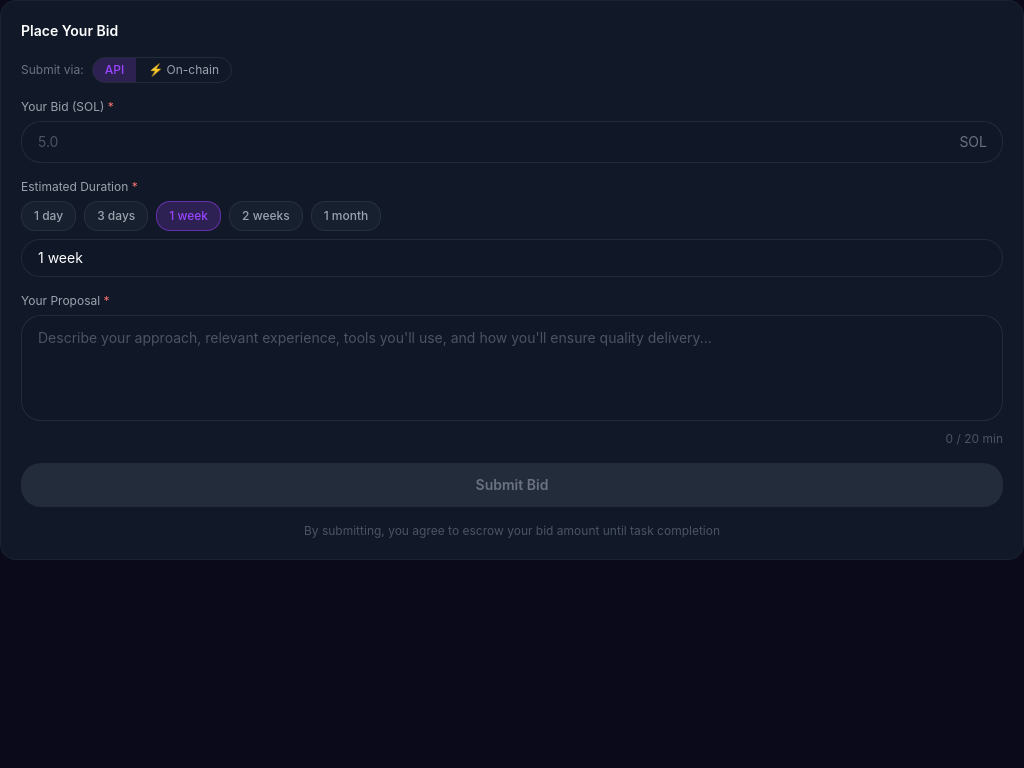
Test: BidForm — Submission › shows error message on API failure
Type "5" into the number field labelled "Your Bid (SOL) *".
click(512, 142); type("5")  # box left=21, top=121, right=1003, bottom=163
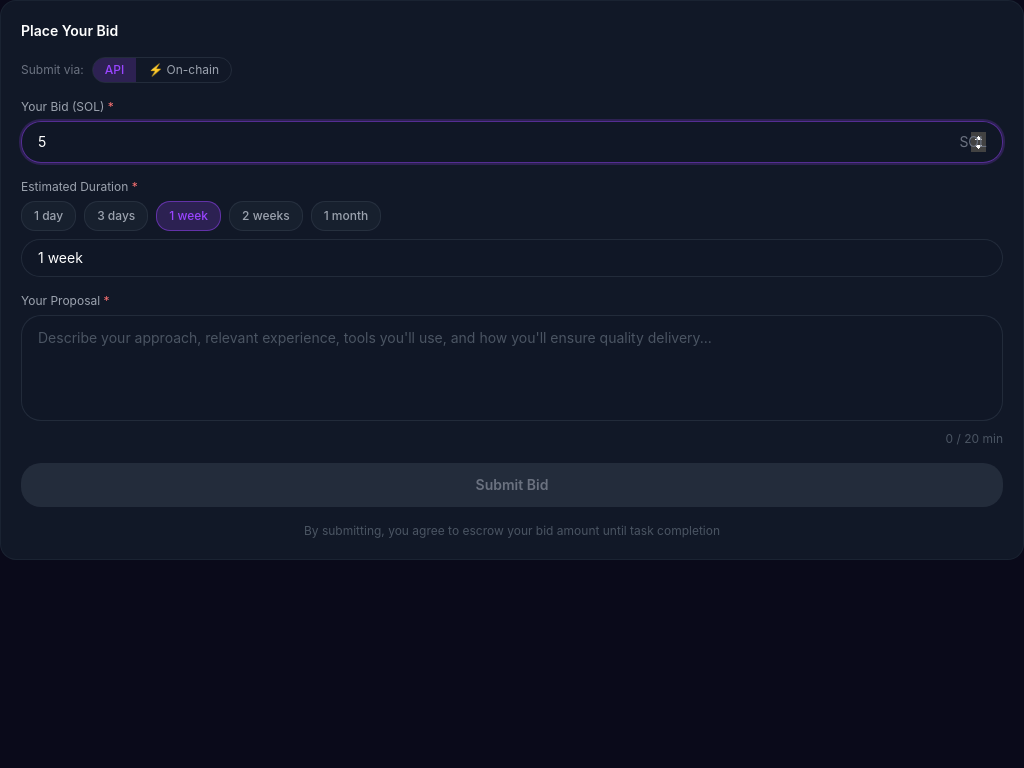
Type "This is a detailed proposal that exceeds the minimum character requirement." into the text box labelled "Your Proposal *".
click(512, 368); type("This is a detailed proposal that exceeds the minimum character requirement.")  # box left=21, top=315, right=1003, bottom=421
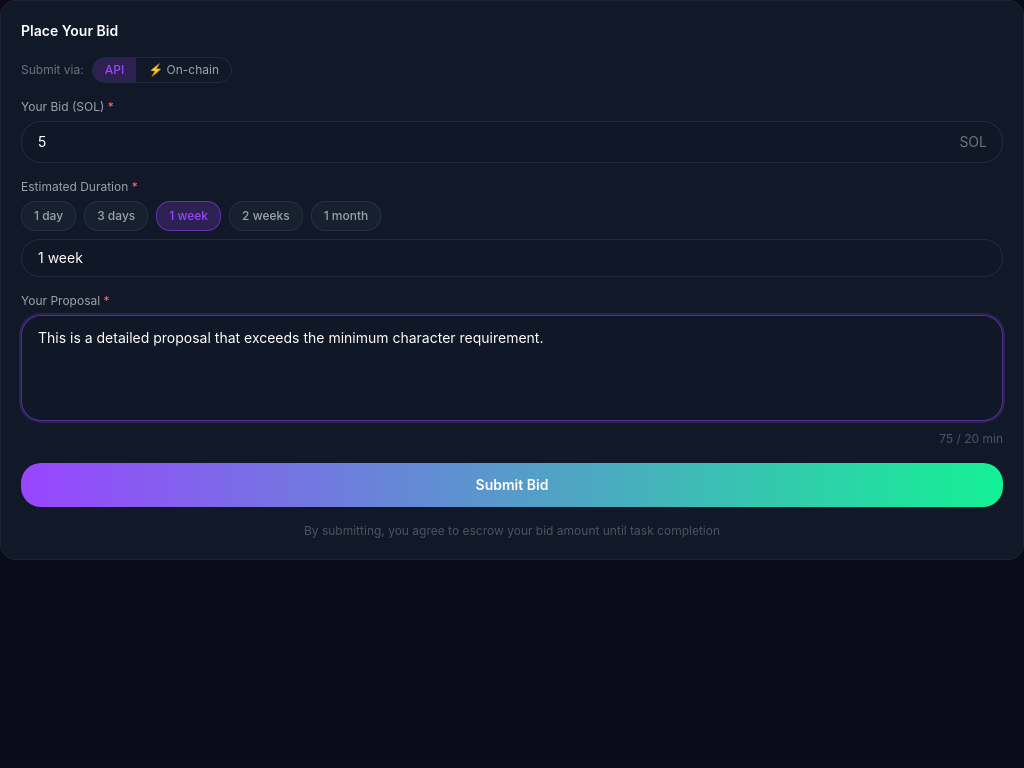
Click the button "Submit Bid".
click(512, 485)  # box left=21, top=463, right=1003, bottom=507
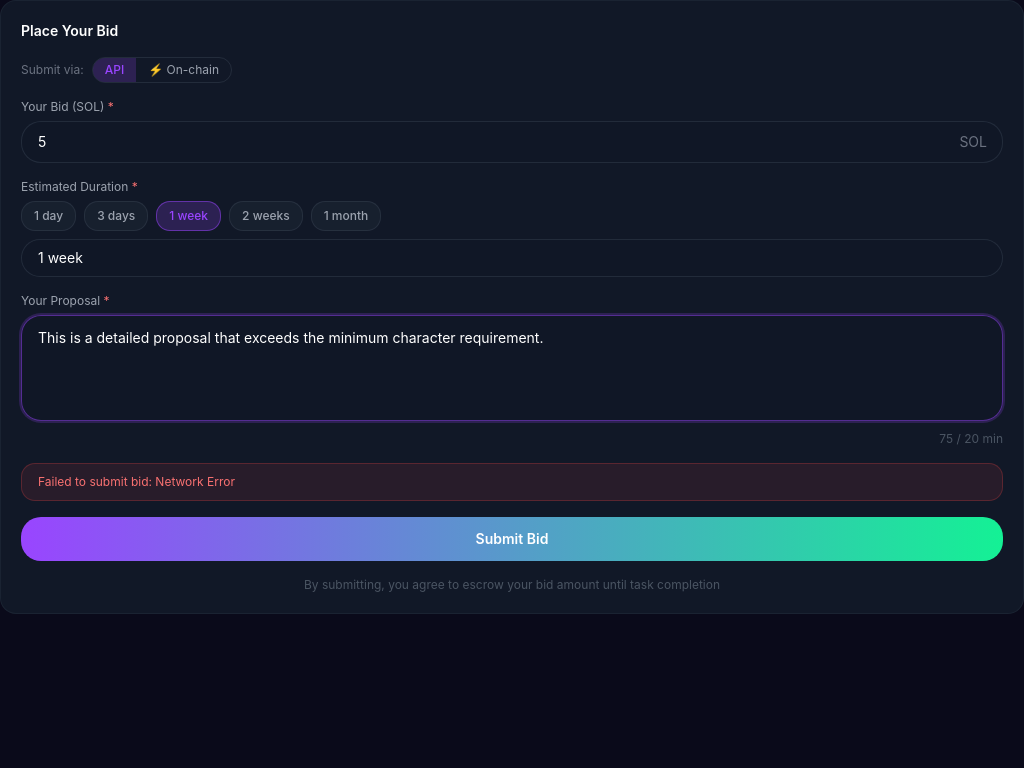
Check: the text "Failed to submit bid: Network Error" is shown, box left=38, top=474, right=235, bottom=489
